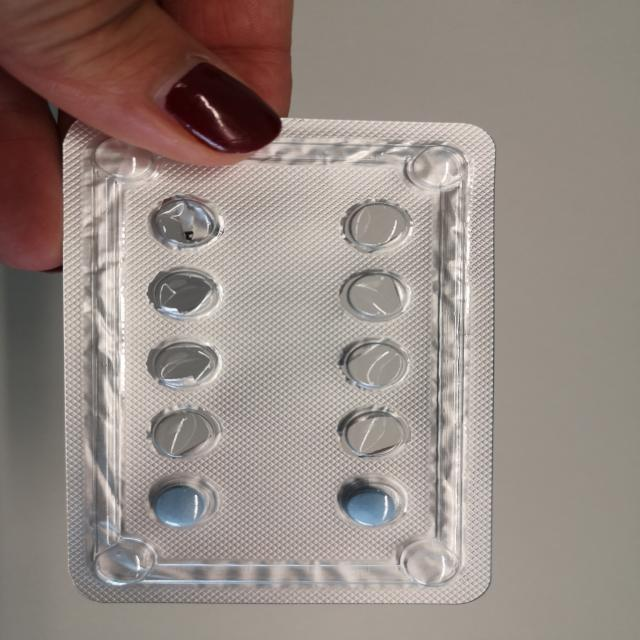Empty: (146, 195, 228, 250), (336, 336, 411, 393), (144, 406, 222, 460), (337, 270, 413, 324), (143, 265, 219, 319), (146, 338, 221, 392), (342, 197, 412, 254), (335, 408, 410, 460)
Pill: (141, 475, 219, 529), (334, 478, 405, 529)
